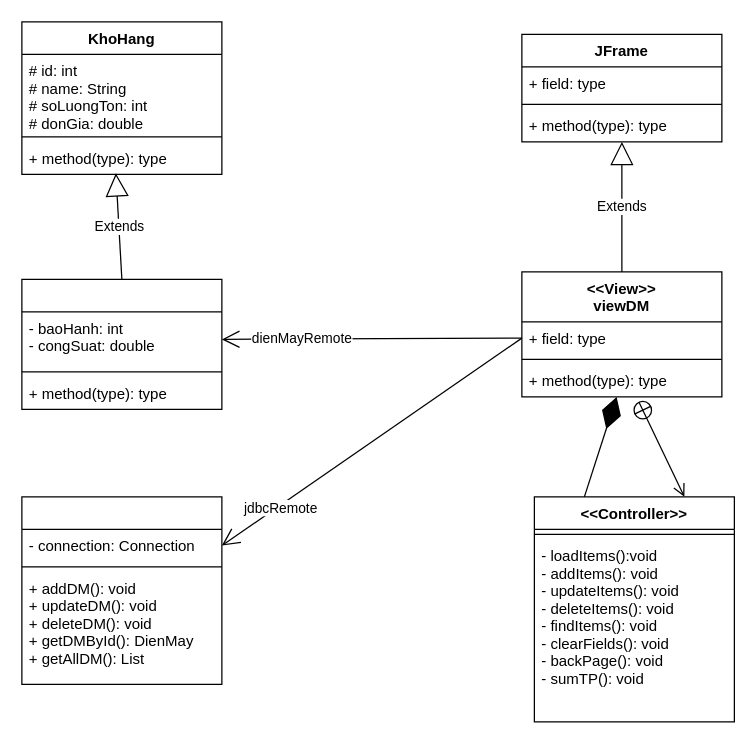
Some shapes in this 756 by 748 pixel diagram are drawn without their labels. The shapes that lost their labels are listed below. From the top down, each one's box as (x1, y1, x2, y2) in pixels, then its label:
(21, 278, 222, 409): DienMay
(21, 496, 222, 684): HangDM_JdbcGateway
